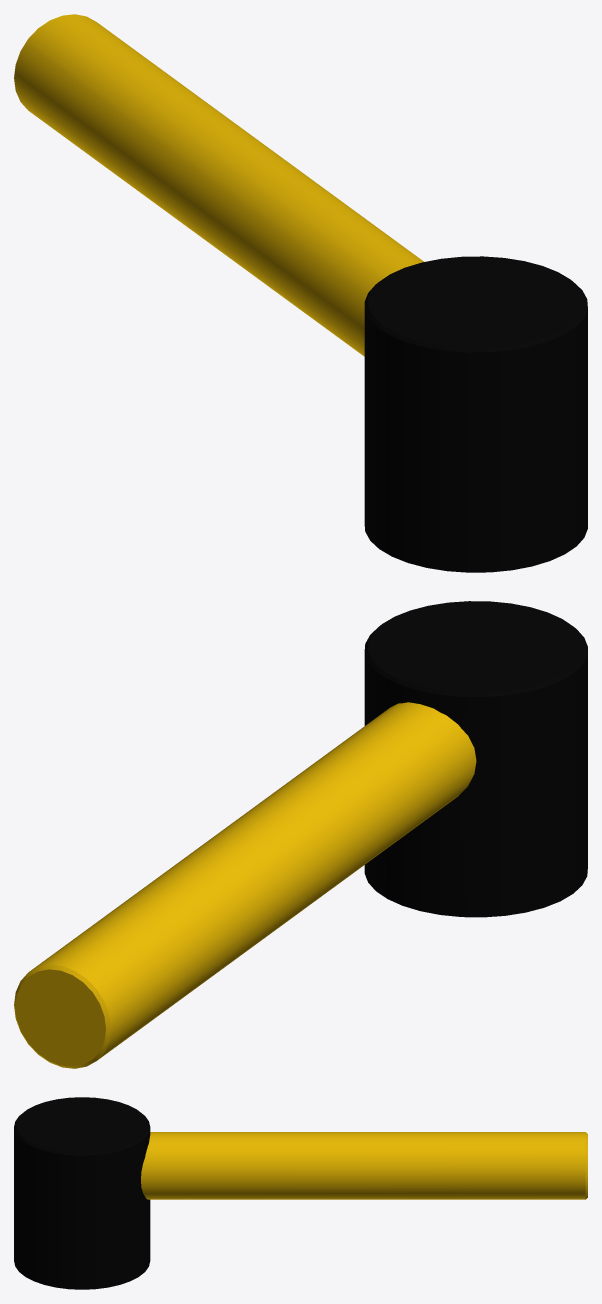
File: Sweeper.fbx
3 views of the same model, one above another, from view 1: azimuth 30°, elevation 25°; view 2: azimuth 150°, elevation 25°; view 3: azimuth 270°, elevation 25° (orthographic). The views are drawn at different scales.
Visible parts, largest first — view 1: SM_Sweeper; view 2: SM_Sweeper; view 3: SM_Sweeper.
Boxes of the visible parts, bbox=[...] form: SM_Sweeper: bbox=[14, 14, 587, 572]; SM_Sweeper: bbox=[14, 601, 587, 1068]; SM_Sweeper: bbox=[14, 1097, 587, 1289].
Size of what is drawn, in the model's own units: 100 by 110 by 421.
